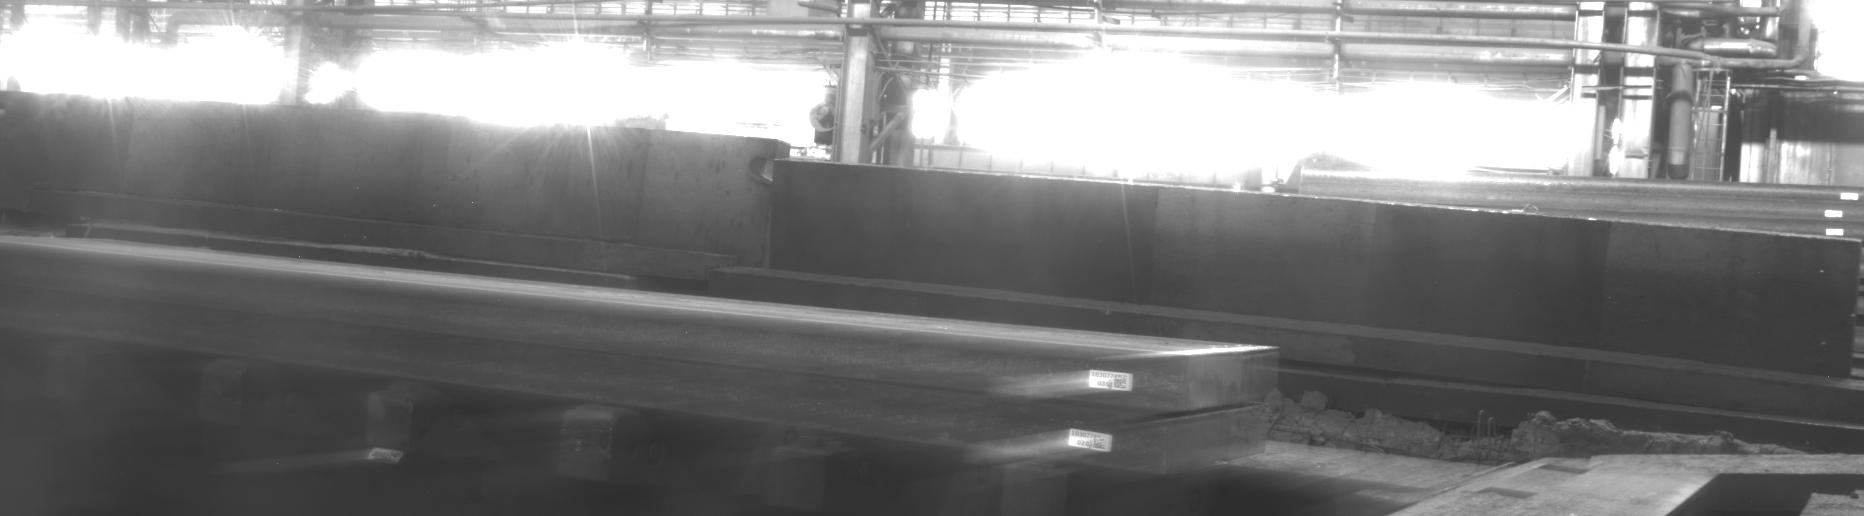data matrix: (1114, 375, 1131, 391), (1094, 434, 1109, 449), (388, 451, 404, 465)
